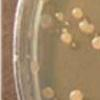white: (78, 21, 94, 34), (68, 89, 85, 100), (59, 31, 72, 45), (70, 7, 82, 20), (40, 14, 53, 25), (91, 35, 100, 50), (42, 86, 54, 97), (54, 11, 63, 20), (65, 23, 69, 27)
